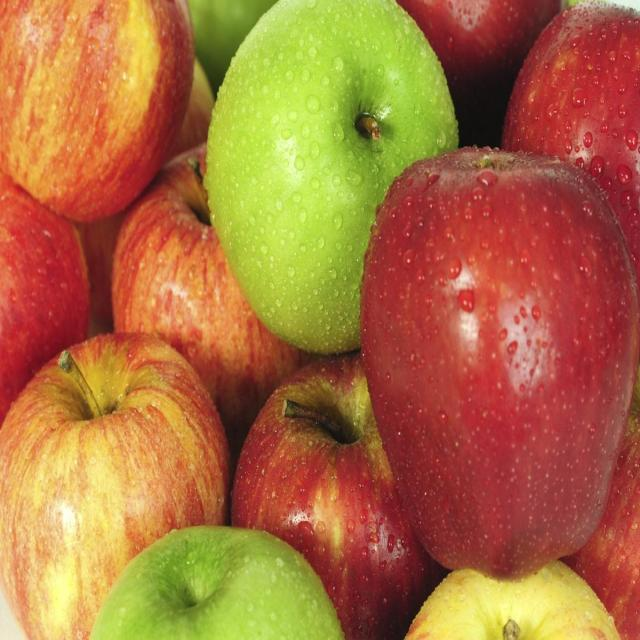Green Apple: (78, 525, 359, 639), (247, 34, 341, 289), (387, 561, 636, 640)
Red Apple: (355, 31, 638, 639), (2, 124, 91, 505)
